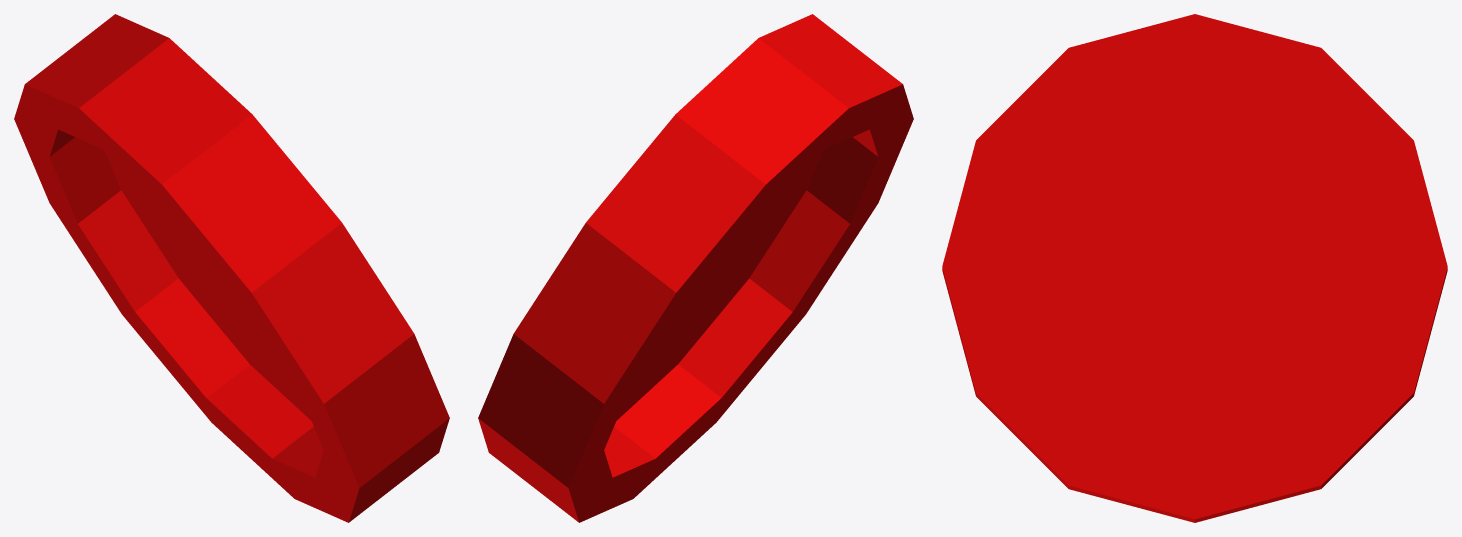
File: outlet_main_r_1.glb
The picture shows the model from 3 angles, left to right: view 1: azimuth 30°, elevation 25°; view 2: azimuth 150°, elevation 25°; view 3: azimuth 270°, elevation 25°; orthographic projection. The views are drawn at different scales.
Parts seen in each view (by area): view 1: Cylinder.086; view 2: Cylinder.086; view 3: Cylinder.086.
Part boxes in pixels (bbox=[...]): Cylinder.086: bbox=[14, 14, 449, 522]; Cylinder.086: bbox=[478, 14, 913, 522]; Cylinder.086: bbox=[942, 14, 1447, 522].
Size of the model in its own units: 0.1202 by 0.1845 by 0.1867.
